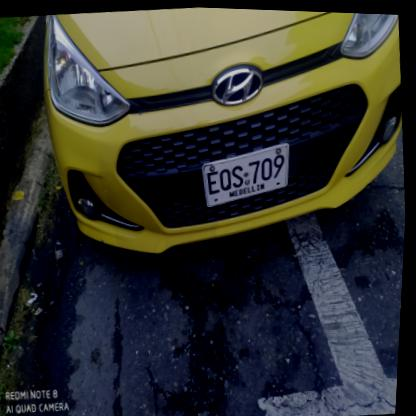placa: (194, 136, 303, 210)
